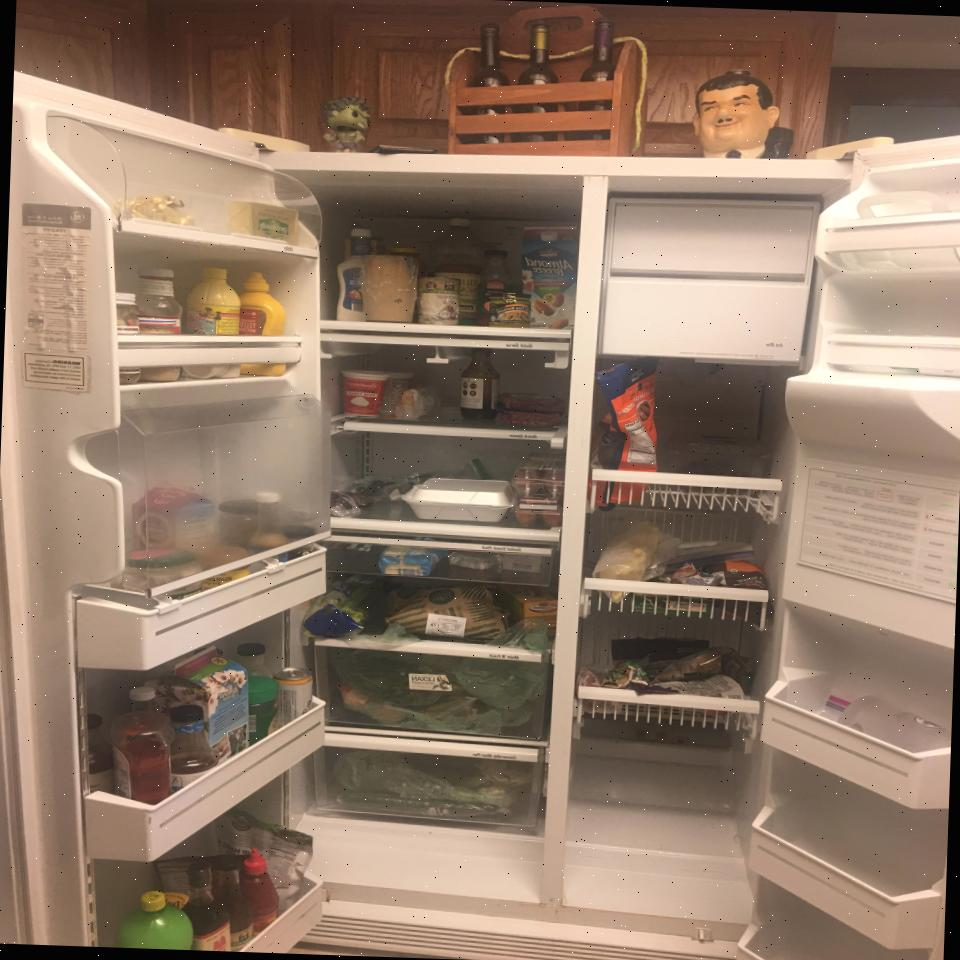Huevos: (510, 450, 567, 499), (510, 498, 566, 528)
Leche: (518, 225, 578, 330)
Mantequilla: (227, 202, 300, 248), (113, 194, 197, 227)
Queso: (378, 535, 448, 578)
Yogur: (339, 370, 390, 418), (375, 370, 416, 416)
Zanahoria: (338, 685, 405, 725)
